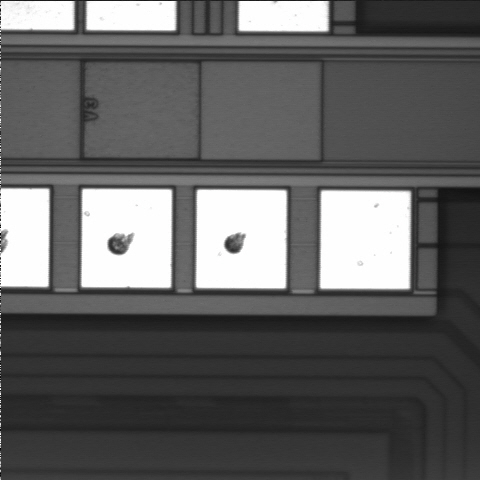pad: (81, 189, 172, 288), (196, 190, 287, 288), (320, 191, 410, 289)
